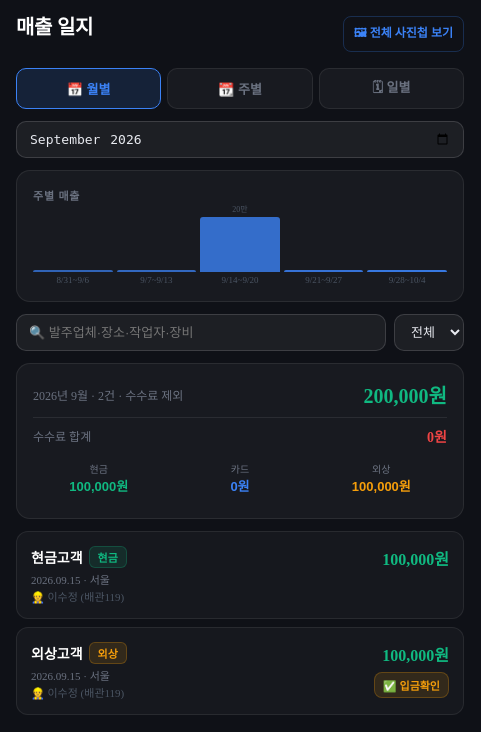
Test: '외상' 금액을 클릭하면 외상 건만 필터링되어 보인다
Expected: the text "현금고객" is shown, [31,547,82,567]
Expected: the text "외상고객" is shown, [31,643,82,663]
Click the button with test id "pay-filter-credit". click: [381, 478]
box: [316,454,447,502]
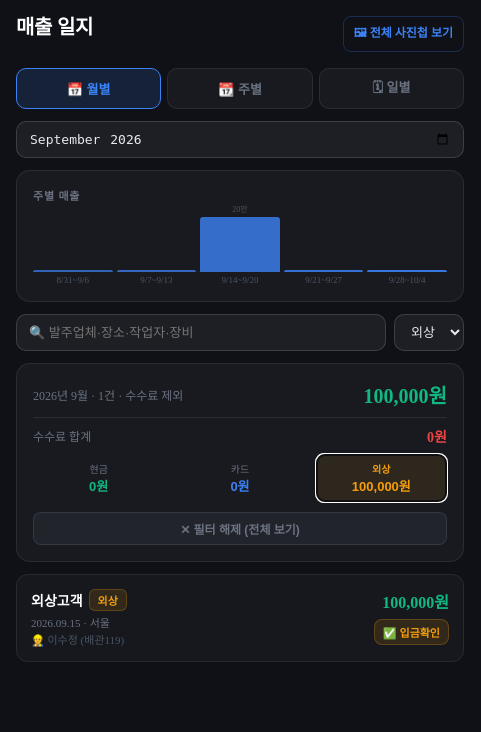
Expected: the text "외상고객" is shown, [31,590,82,610]
Result: the text "현금고객" is gone
